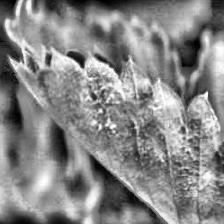Powdery Mildew Leaf: (6, 40, 224, 224)
